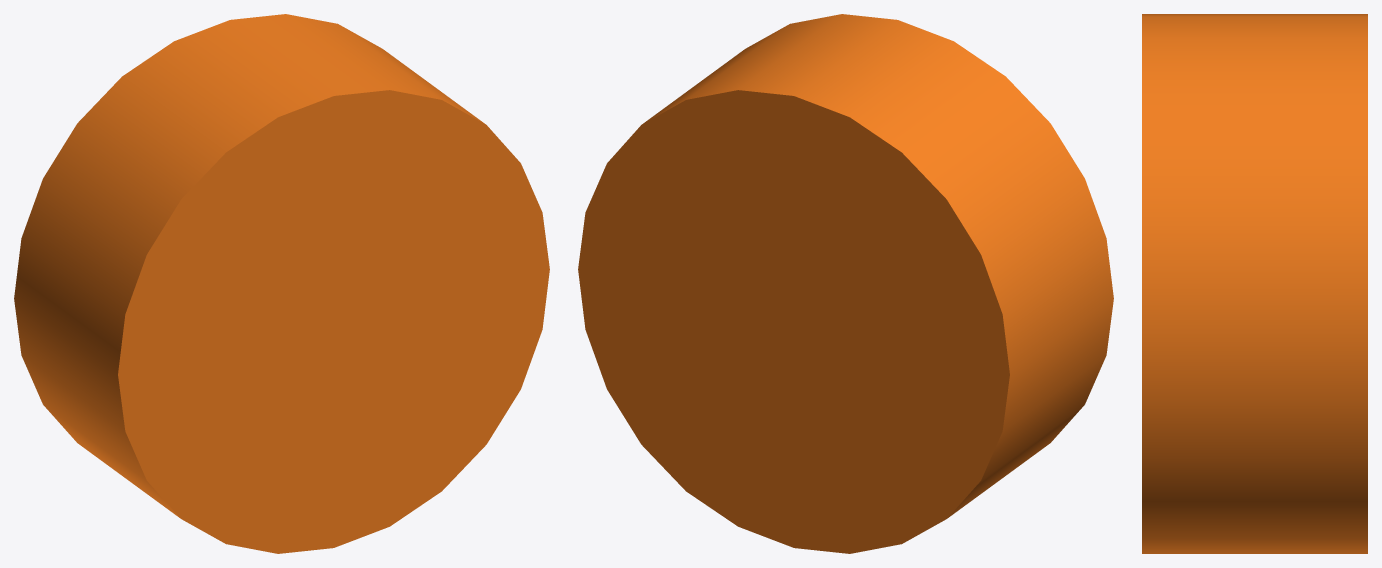
The picture shows the model from 3 angles, left to right: view 1: azimuth 30°, elevation 25°; view 2: azimuth 150°, elevation 25°; view 3: azimuth 270°, elevation 25°; orthographic projection. The views are drawn at different scales.
Visible parts, largest first — view 1: gripper_frame; view 2: gripper_frame; view 3: gripper_frame.
Boxes of the visible parts, x1=… form: gripper_frame: x1=14, y1=14, x2=549, y2=553; gripper_frame: x1=578, y1=14, x2=1113, y2=553; gripper_frame: x1=1142, y1=14, x2=1367, y2=553.
Size of the model in its own units: 0.024 by 0.024 by 0.01.
